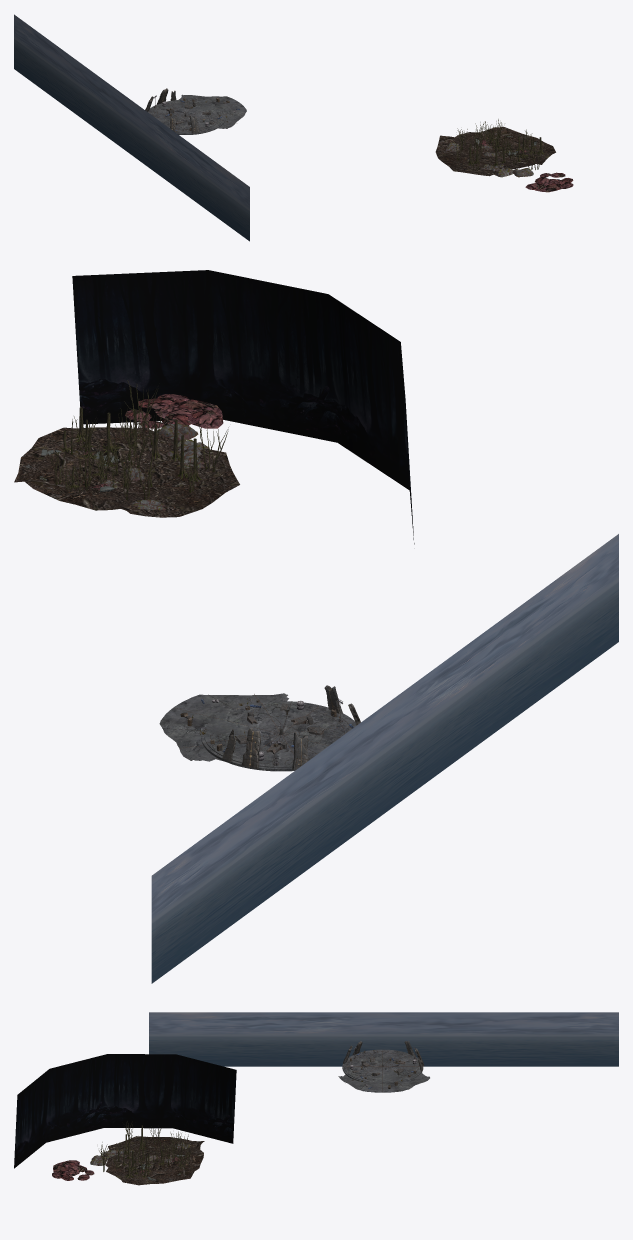
The model's file is env_sea_henge_pre.glb.
The picture shows the model from 3 angles, top to bottom: view 1: azimuth 30°, elevation 25°; view 2: azimuth 150°, elevation 25°; view 3: azimuth 270°, elevation 25°; orthographic projection. The views are drawn at different scales.
Parts seen in each view (by area): view 1: sea_henge_skybox_altar_mesh, seatos_ground_mesh, sea_henge_ground, flora_mound_01c (1); view 2: sea_henge_skybox_altar_mesh, sea_henge_skybox_forest_mesh, seatos_ground_mesh, sea_henge_ground, flora_mound_01c (1); view 3: sea_henge_skybox_altar_mesh, sea_henge_skybox_forest_mesh, seatos_ground_mesh, sea_henge_ground, flora_mound_01c (1).
Boxes of the visible parts, bbox=[...] form: sea_henge_skybox_altar_mesh: bbox=[14, 14, 249, 241]; seatos_ground_mesh: bbox=[435, 127, 555, 176]; sea_henge_ground: bbox=[148, 94, 246, 134]; flora_mound_01c (1): bbox=[525, 172, 573, 192]; sea_henge_skybox_altar_mesh: bbox=[151, 534, 618, 983]; sea_henge_skybox_forest_mesh: bbox=[72, 270, 414, 544]; seatos_ground_mesh: bbox=[14, 427, 239, 517]; sea_henge_ground: bbox=[159, 693, 356, 771]; flora_mound_01c (1): bbox=[125, 394, 223, 428]; sea_henge_skybox_altar_mesh: bbox=[149, 1012, 618, 1066]; sea_henge_skybox_forest_mesh: bbox=[14, 1054, 236, 1168]; seatos_ground_mesh: bbox=[105, 1136, 204, 1185]; sea_henge_ground: bbox=[338, 1049, 429, 1092]; flora_mound_01c (1): bbox=[52, 1160, 94, 1180].
Size of the model in its own units: 142 by 33.4 by 231.
Materials: 26 (26 with a texture image).
